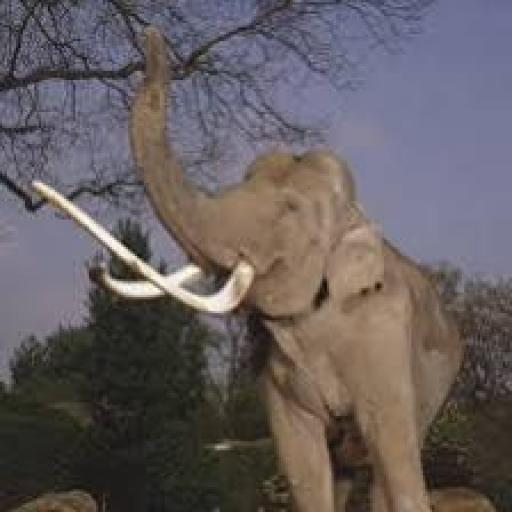Elephant: (16, 20, 476, 512)
